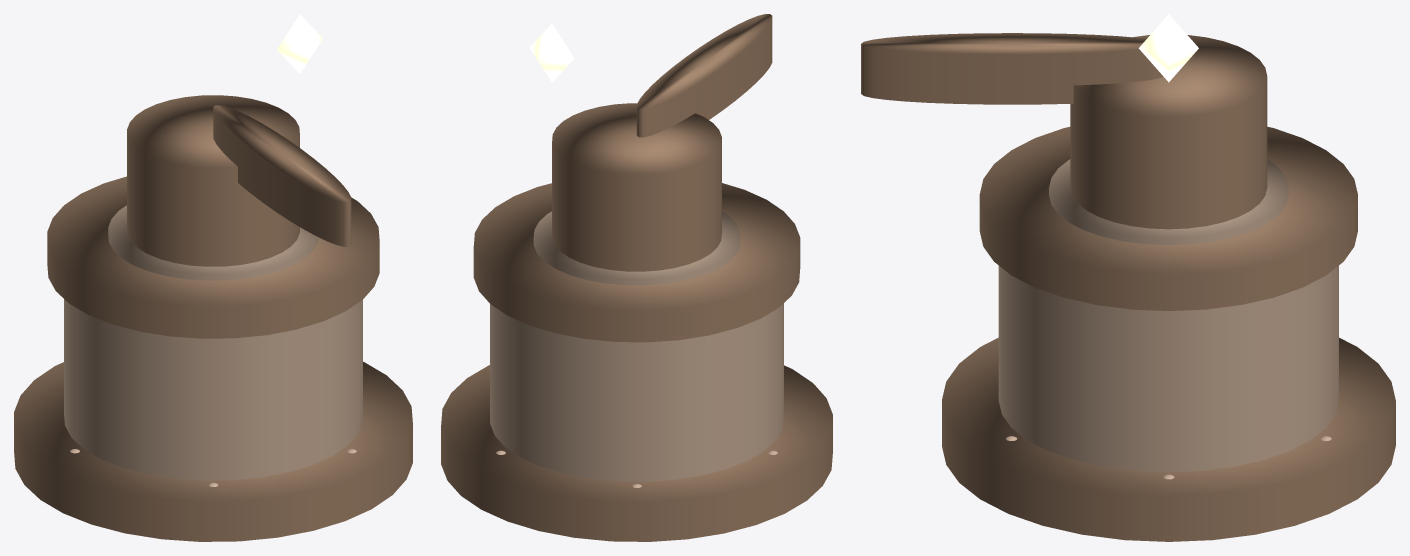
Rendered from sentinel_l3.glb.
The picture shows the model from 3 angles, left to right: view 1: azimuth 30°, elevation 25°; view 2: azimuth 150°, elevation 25°; view 3: azimuth 270°, elevation 25°; orthographic projection. The views are drawn at different scales.
Parts seen in each view (by area): view 1: base, footing, baseCollar, shaft, barrel, lowerTrim, spinCrystal; view 2: base, footing, baseCollar, shaft, barrel, lowerTrim, spinCrystal; view 3: base, footing, baseCollar, shaft, barrel, lowerTrim, spinCrystal.
Boxes of the visible parts, bbox=[...] form: base: bbox=[64, 299, 362, 480]; footing: bbox=[14, 361, 412, 541]; baseCollar: bbox=[47, 176, 379, 338]; shaft: bbox=[127, 95, 299, 266]; barrel: bbox=[213, 105, 351, 246]; lowerTrim: bbox=[108, 205, 318, 280]; spinCrystal: bbox=[277, 14, 322, 73]; base: bbox=[490, 303, 783, 481]; footing: bbox=[441, 365, 832, 541]; baseCollar: bbox=[473, 183, 800, 342]; shaft: bbox=[552, 103, 721, 271]; barrel: bbox=[636, 14, 772, 137]; lowerTrim: bbox=[533, 211, 740, 285]; spinCrystal: bbox=[529, 24, 574, 82]; base: bbox=[998, 266, 1338, 472]; footing: bbox=[942, 337, 1395, 541]; baseCollar: bbox=[979, 126, 1357, 310]; shaft: bbox=[1070, 35, 1267, 229]; barrel: bbox=[861, 33, 1162, 104]; lowerTrim: bbox=[1049, 159, 1288, 245]; spinCrystal: bbox=[1138, 14, 1198, 82].
Bounding box in the file's own units: 1.8 × 2.1 × 2.12.
